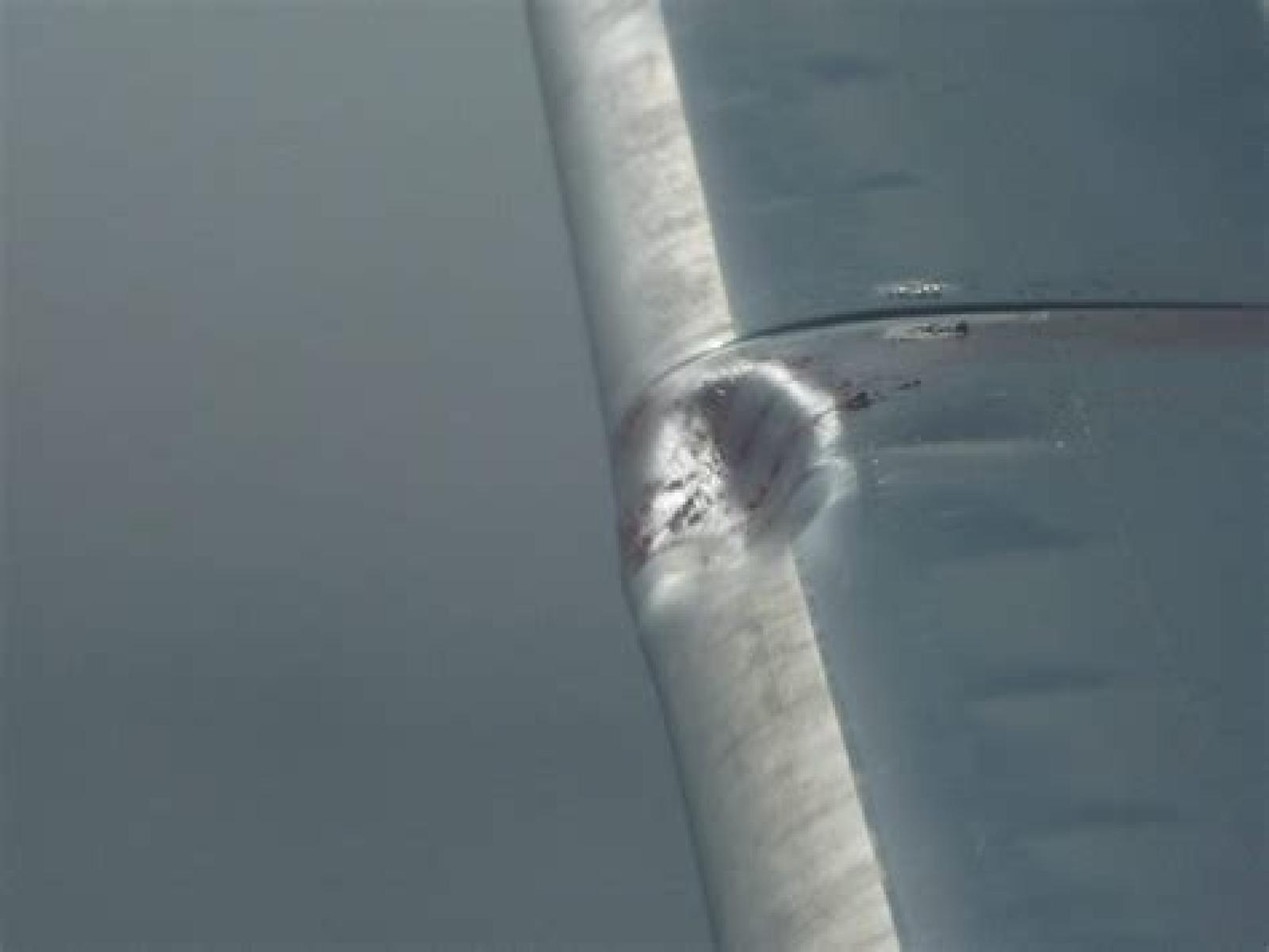Fuselage_damage: (599, 328, 882, 656)
